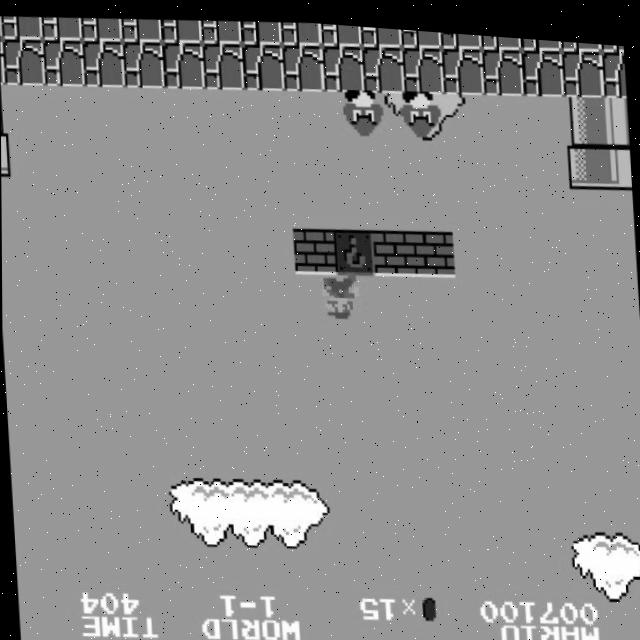1- brick_block: (412, 222, 455, 273), (372, 222, 415, 273), (292, 222, 335, 272)
11- little_mario: (318, 265, 363, 318)
13- mystery_block: (332, 222, 375, 272)
14- pipe: (564, 86, 607, 137), (605, 87, 629, 136), (0, 85, 8, 132)
15- pipe_head: (567, 131, 610, 182), (608, 133, 632, 181), (1, 131, 11, 178)
17- undestructible_block: (562, 40, 605, 91), (442, 39, 485, 90), (362, 39, 405, 90), (282, 38, 325, 89), (242, 38, 285, 89), (82, 37, 125, 88), (522, 40, 565, 90), (482, 40, 525, 90), (402, 39, 445, 89), (322, 39, 365, 89), (202, 38, 245, 88), (162, 38, 205, 88), (122, 38, 165, 88), (42, 37, 85, 87), (2, 37, 45, 87), (201, 15, 243, 43), (161, 15, 203, 43), (41, 14, 83, 42), (602, 41, 626, 89), (280, 16, 322, 43), (241, 16, 283, 43), (121, 15, 163, 42), (81, 15, 123, 42), (1, 14, 43, 41), (320, 19, 362, 43), (360, 21, 402, 43), (400, 23, 442, 44), (440, 26, 482, 44), (480, 28, 522, 44), (520, 30, 562, 45), (560, 33, 602, 45), (0, 39, 6, 86), (601, 35, 624, 44)
8- goomba: (399, 82, 446, 136), (341, 82, 388, 136)
